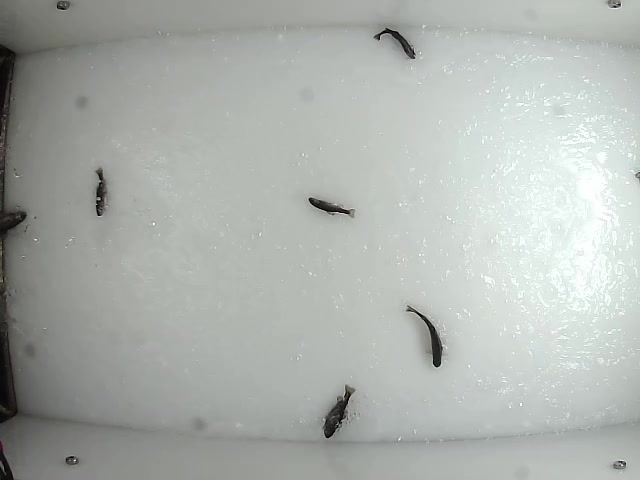fish: (401, 303, 442, 371), (320, 383, 356, 440), (372, 26, 417, 61), (306, 196, 356, 220), (90, 166, 107, 218)
